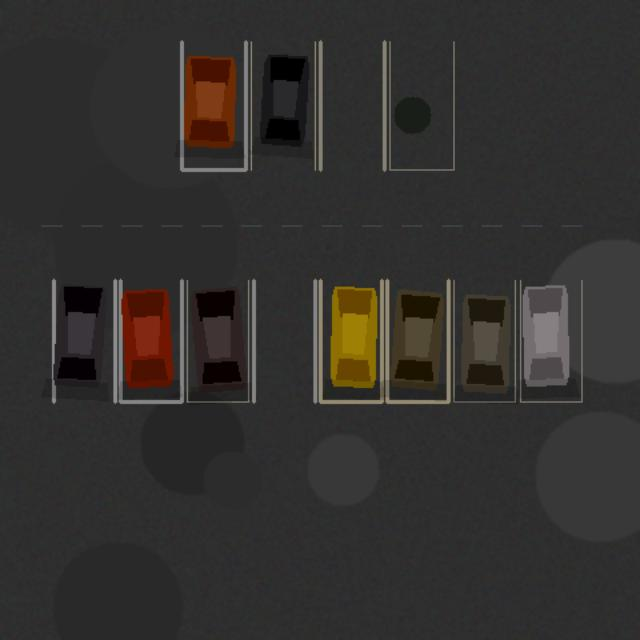space-empty: (320, 41, 384, 169), (389, 41, 453, 169), (253, 280, 315, 401)
space-occupied: (181, 41, 245, 169), (251, 41, 315, 169), (53, 280, 115, 401), (453, 280, 515, 401), (120, 280, 181, 401), (187, 280, 248, 401), (320, 280, 381, 401), (387, 280, 448, 401), (520, 280, 581, 401)
